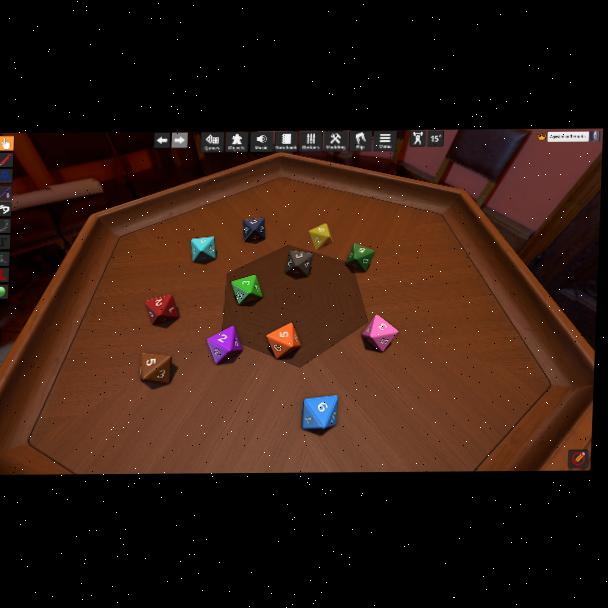d8: (361, 314, 398, 352), (204, 326, 240, 364), (301, 396, 336, 431), (265, 323, 299, 359), (145, 294, 180, 325), (141, 353, 173, 385), (230, 274, 263, 304), (346, 243, 375, 271), (191, 236, 217, 263), (285, 250, 310, 277), (307, 224, 330, 251), (243, 217, 266, 243)
